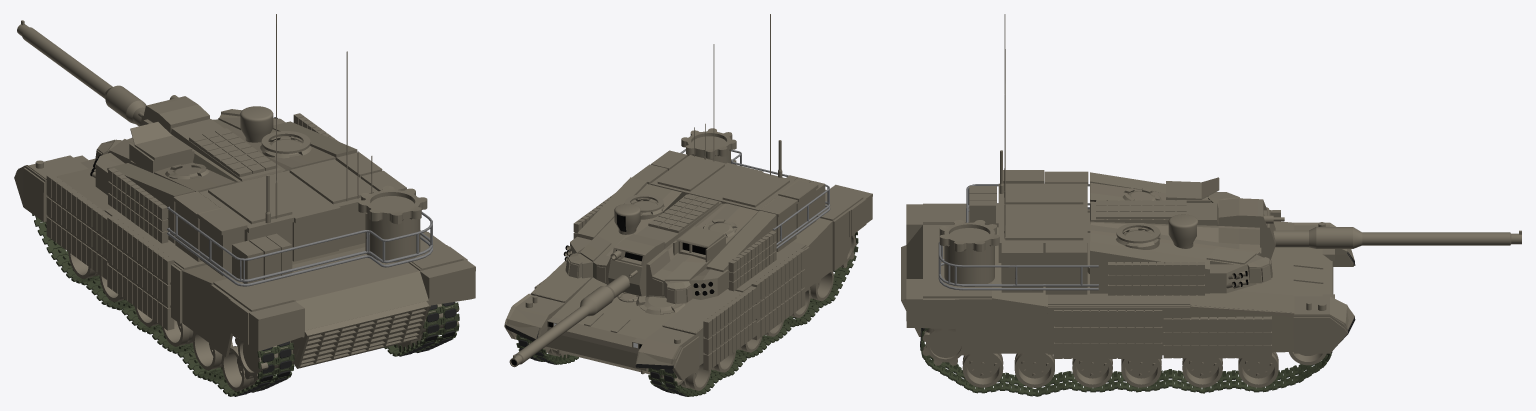
The model's file is K-2 Black panther mbt tank 3.fbx.
The picture shows the model from 3 angles, left to right: view 1: azimuth 30°, elevation 25°; view 2: azimuth 150°, elevation 25°; view 3: azimuth 270°, elevation 25°; orthographic projection. The views are drawn at different scales.
Parts seen in each view (by area): view 1: 차체, 큐브.002, Cube, 큐브.028, 큐브.034, 큐브.029, 실린더.002, 궤도, 실린더, 큐브.011, 큐브.010, 큐브.015 (+24 smaller); view 2: 차체, Cube, 큐브.002, 큐브.028, 큐브.029, 궤도, 실린더, 큐브.011, 큐브.006, 큐브.015, 실린더.002, 큐브.010 (+19 smaller); view 3: 차체, Cube, 큐브.002, 큐브.031, 큐브.030, 실린더, 궤도.003, 큐브.012, 실린더.002, 큐브.007, 큐브.004, 큐브.013 (+20 smaller).
Part boxes in pixels (left/top/right/bottom): 차체: left=14, top=119, right=475, bottom=357; 큐브.002: left=199, top=159, right=377, bottom=261; Cube: left=108, top=96, right=335, bottom=192; 큐브.028: left=107, top=216, right=174, bottom=330; 큐브.034: left=293, top=301, right=429, bottom=368; 큐브.029: left=46, top=174, right=110, bottom=279; 실린더.002: left=358, top=185, right=427, bottom=262; 궤도: left=32, top=214, right=277, bottom=396; 실린더: left=17, top=20, right=146, bottom=126; 큐브.011: left=108, top=168, right=168, bottom=243; 큐브.010: left=129, top=122, right=194, bottom=173; 큐브.015: left=189, top=128, right=277, bottom=177; 차체: left=504, top=159, right=872, bottom=380; Cube: left=578, top=184, right=758, bottom=298; 큐브.002: left=650, top=155, right=795, bottom=211; 큐브.028: left=751, top=248, right=805, bottom=340; 큐브.029: left=703, top=286, right=756, bottom=370; 궤도: left=662, top=231, right=858, bottom=396; 실린더: left=509, top=275, right=629, bottom=367; 큐브.011: left=728, top=231, right=776, bottom=291; 큐브.006: left=706, top=210, right=776, bottom=280; 큐브.015: left=648, top=194, right=718, bottom=233; 실린더.002: left=681, top=128, right=736, bottom=163; 큐브.010: left=673, top=226, right=725, bottom=262; 차체: left=906, top=203, right=1355, bottom=355; Cube: left=1090, top=183, right=1275, bottom=264; 큐브.002: left=996, top=183, right=1087, bottom=287; 큐브.031: left=1054, top=310, right=1162, bottom=358; 큐브.030: left=1163, top=316, right=1271, bottom=358; 실린더: left=1273, top=227, right=1521, bottom=248; 궤도.003: left=920, top=328, right=1332, bottom=396; 큐브.012: left=1108, top=262, right=1204, bottom=295; 실린더.002: left=939, top=220, right=999, bottom=286; 큐브.007: left=1090, top=241, right=1209, bottom=293; 큐브.004: left=1045, top=242, right=1087, bottom=294; 큐브.013: left=1001, top=243, right=1043, bottom=292.
Size of the model in its own units: 54.66 by 84.66 by 147.
